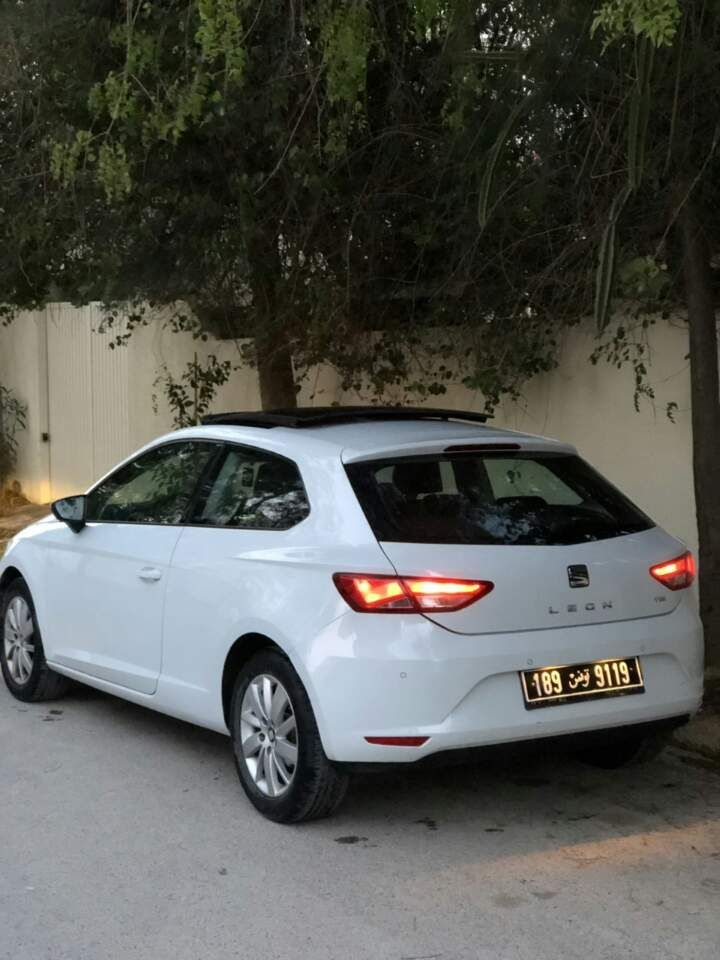LP: (520, 656, 644, 702)
